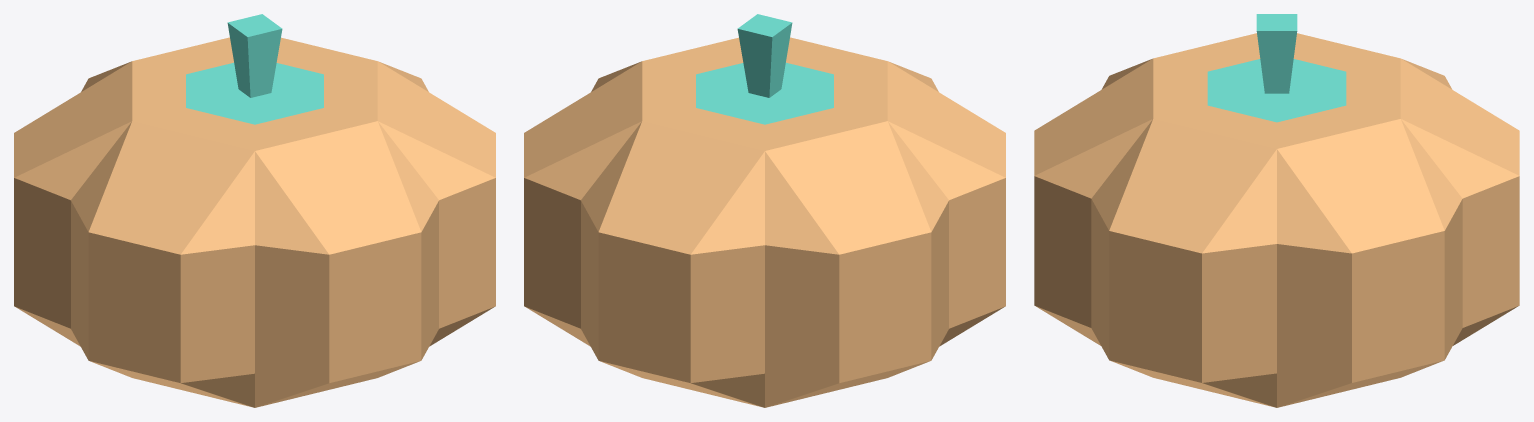
File: k_pumpkin.glb
3 renders of one model, left to right at view 1: azimuth 30°, elevation 25°; view 2: azimuth 150°, elevation 25°; view 3: azimuth 270°, elevation 25°, orthographic.
Parts seen in each view (by area): view 1: crop_pumpkin; view 2: crop_pumpkin; view 3: crop_pumpkin.
Boxes of the visible parts, bbox=[...] form: crop_pumpkin: bbox=[14, 14, 495, 407]; crop_pumpkin: bbox=[524, 14, 1005, 407]; crop_pumpkin: bbox=[1034, 14, 1519, 407].
Size of the model in its own units: 0.4413 by 0.3338 by 0.4519.
